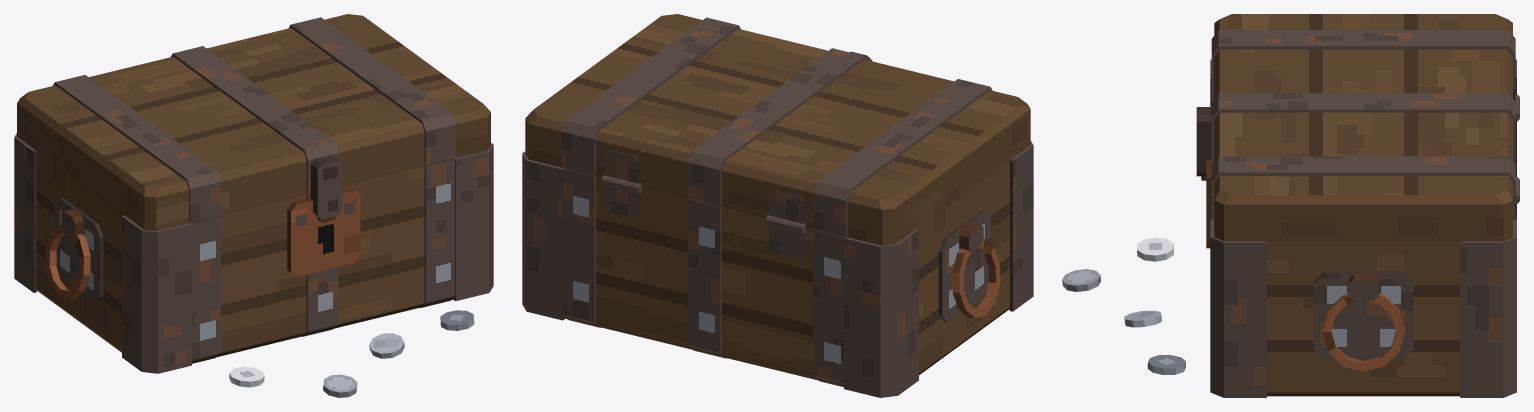
The model's file is 捞获-银币匣.glb.
3 views of the same model, side by side, from view 1: azimuth 30°, elevation 25°; view 2: azimuth 150°, elevation 25°; view 3: azimuth 270°, elevation 25° (orthographic). The views are drawn at different scales.
Visible parts, largest first — view 1: matte_lid, metal_body, matte_body, metal_lid; view 2: matte_lid, metal_body, matte_body, metal_lid; view 3: matte_lid, metal_body, matte_body, metal_lid.
Part boxes in pixels (<box>): matte_lid: <box>17,14,490,231</box>; metal_body: <box>14,133,493,397</box>; matte_body: <box>36,152,453,363</box>; metal_lid: <box>53,17,456,222</box>; matte_lid: <box>525,14,1030,245</box>; metal_body: <box>522,141,1033,397</box>; matte_body: <box>565,161,1009,386</box>; metal_lid: <box>562,17,992,236</box>; matte_lid: <box>1214,14,1512,241</box>; metal_body: <box>1062,59,1519,397</box>; matte_body: <box>1267,242,1460,396</box>; metal_lid: <box>1196,30,1515,217</box>.
Size of the model in its own units: 0.5624 by 0.26 by 0.521.
Materials: 2 (2 with a texture image).
